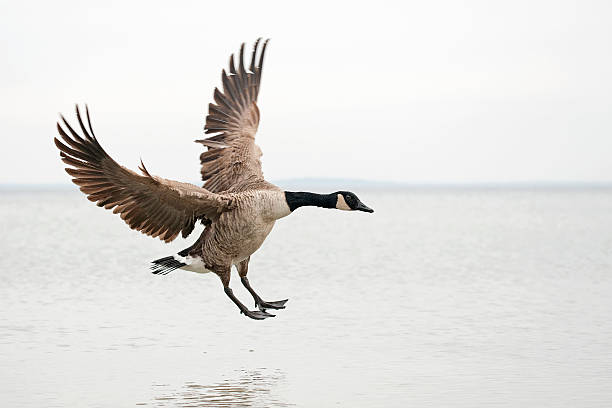goose: (55, 34, 378, 324)
